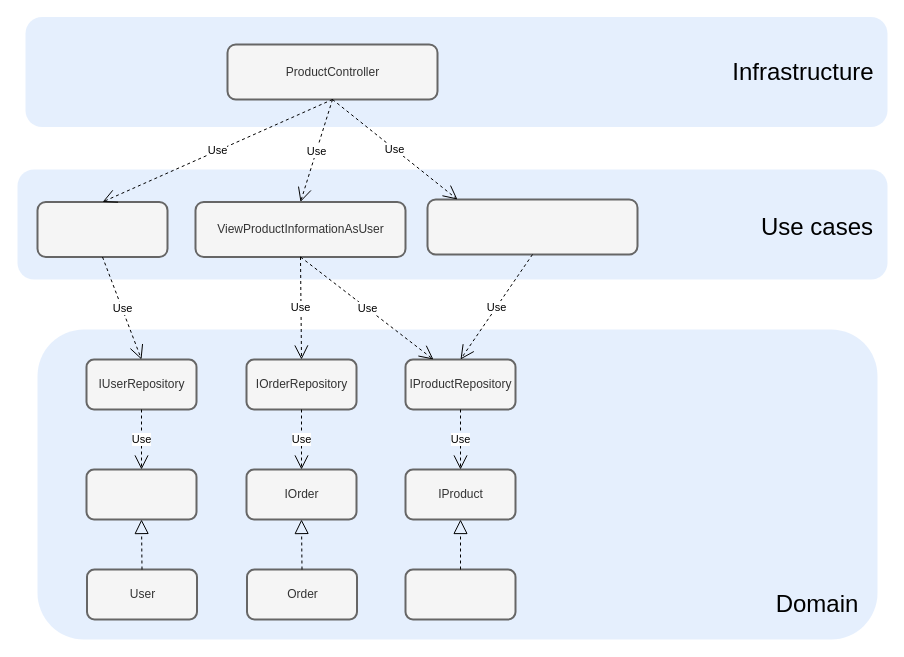
The diagram is 904 pixels wide and 657 high, and some of its shapes have lost their labels. Here are the shapes that lost their labels. From the top down, the centre of each, then its label:
point 102,229: GetUserById
point 532,226: ViewProductInformation
point 141,494: IUser
point 460,594: Product
